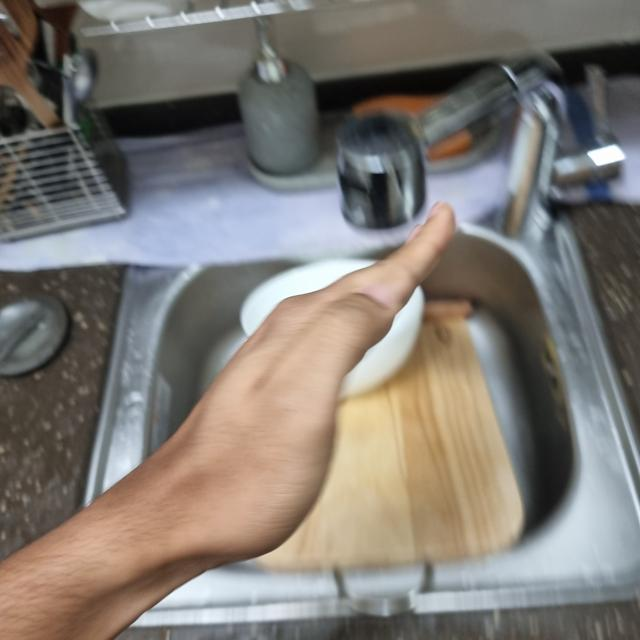Paper: (144, 205, 452, 557)
